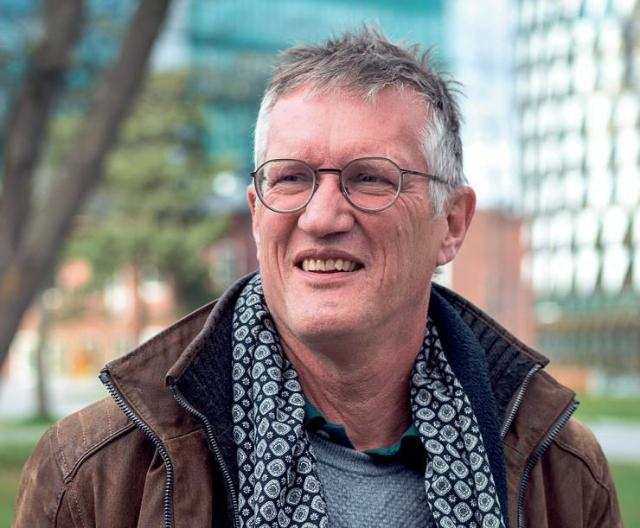crows_feet: (394, 178, 416, 204)
gummy_smile: (277, 211, 301, 249), (349, 208, 368, 236)
masseter: (261, 242, 289, 282), (376, 245, 392, 294)
